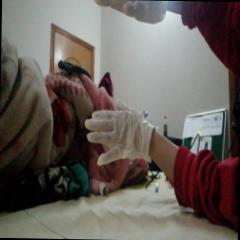gloved: (86, 98, 150, 163), (91, 0, 166, 25)
